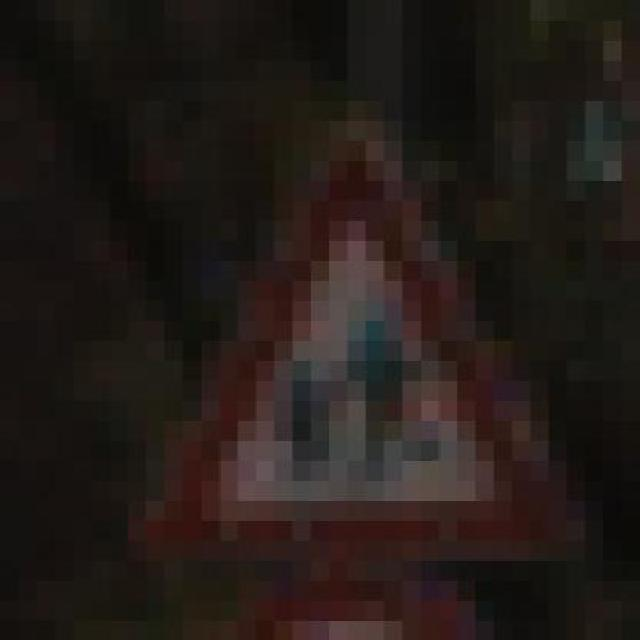Beware of children: (128, 120, 586, 580)
